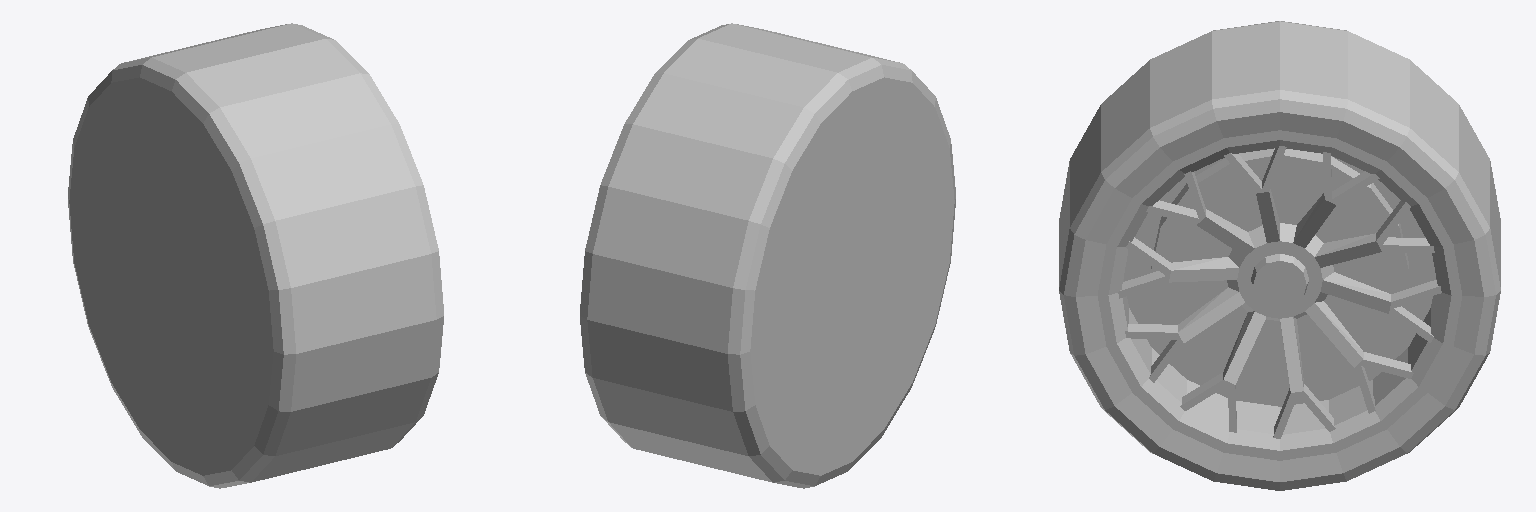
Rendered from Lamborghini_Aventador_rear_left_wheel.obj.
The picture shows the model from 3 angles: view 1: azimuth 30°, elevation 25°; view 2: azimuth 150°, elevation 25°; view 3: azimuth 270°, elevation 25°; orthographic projection.
Visible parts, largest first — view 1: Lamborghini_Aventador:Wheel_RR; view 2: Lamborghini_Aventador:Wheel_RR; view 3: Lamborghini_Aventador:Wheel_RR.
Part boxes in pixels (bbox=[...]): Lamborghini_Aventador:Wheel_RR: bbox=[68, 23, 443, 488]; Lamborghini_Aventador:Wheel_RR: bbox=[580, 23, 955, 488]; Lamborghini_Aventador:Wheel_RR: bbox=[1059, 21, 1500, 490].
Bounding box in the file's own units: 0.3504 × 0.794 × 0.794.